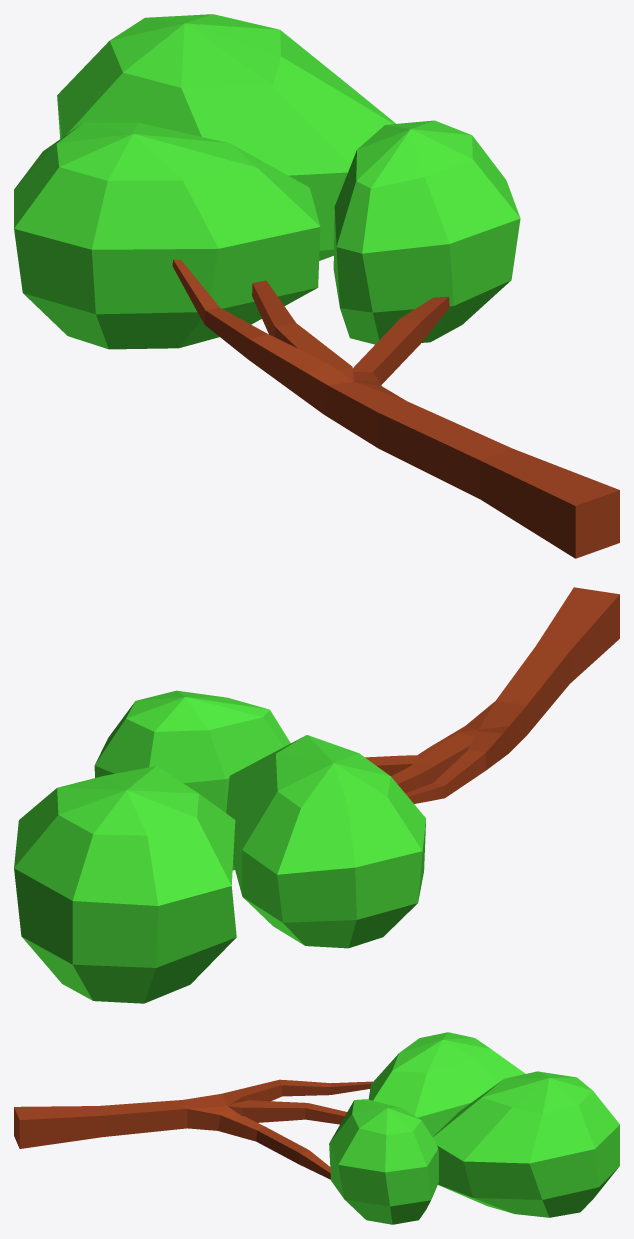
The model's file is ARBOL.glb.
The picture shows the model from 3 angles, top to bottom: view 1: azimuth 30°, elevation 25°; view 2: azimuth 150°, elevation 25°; view 3: azimuth 270°, elevation 25°; orthographic projection. The views are drawn at different scales.
Visible parts, largest first — view 1: Sphere.001, Cube; view 2: Sphere.001, Cube; view 3: Sphere.001, Cube.
Part boxes in pixels (box(x1,y1,x2,y2)): Sphere.001: box(14, 14, 520, 349); Cube: box(172, 259, 619, 558); Sphere.001: box(14, 690, 426, 1003); Cube: box(365, 587, 619, 803); Sphere.001: box(329, 1032, 619, 1224); Cube: box(14, 1079, 372, 1179).
Bounding box in the file's own units: 1.99 × 1.08 × 4.4.
